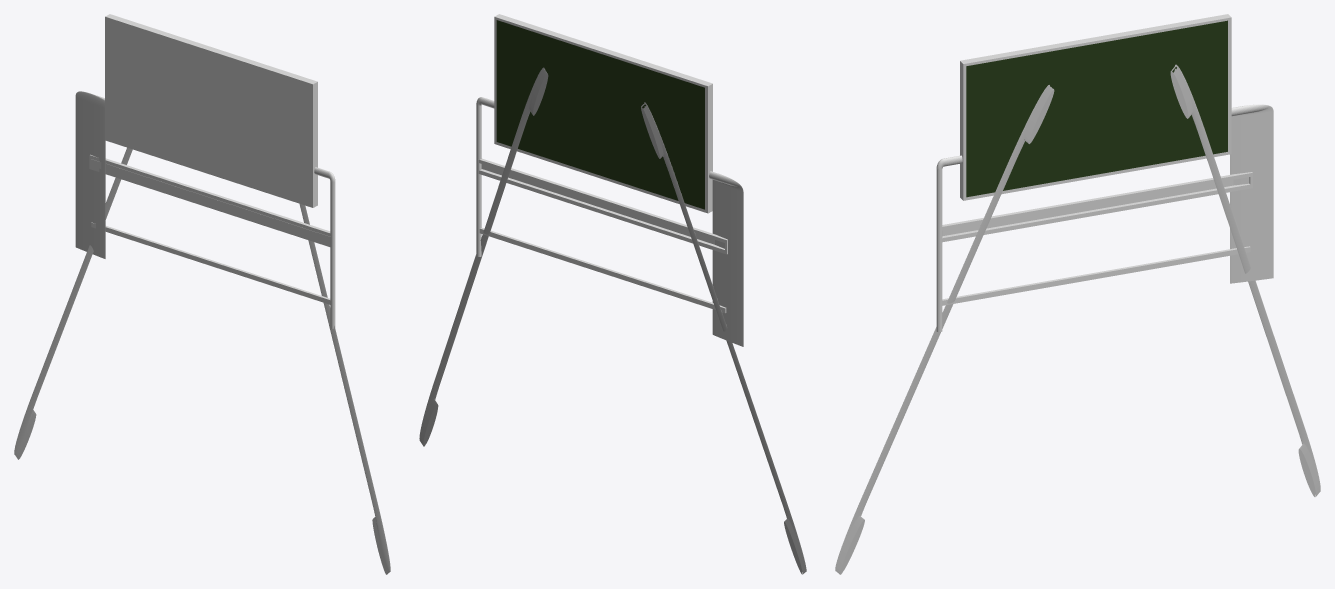
The model's file is BordHausT.glb.
The picture shows the model from 3 angles, left to right: view 1: azimuth 30°, elevation 25°; view 2: azimuth 210°, elevation 25°; view 3: azimuth 270°, elevation 25°; orthographic projection. The views are drawn at different scales.
Visible parts, largest first — view 1: Cube, Cylinder.001, Cube.001, Cylinder.003, Cylinder.002, Cube.002, Cylinder; view 2: Cube, Cylinder.001, Cube.001, Cylinder.002, Cylinder.003, Cube.002, Cylinder; view 3: Cube, Cylinder.001, Cube.001, Cylinder.003, Cylinder.002, Cube.002, Cylinder.
Boxes of the visible parts, box(x1,y1,x2,y2) form: Cube: box(105, 14, 317, 207); Cylinder.001: box(75, 91, 105, 258); Cube.001: box(89, 154, 330, 246); Cylinder.003: box(299, 204, 390, 574); Cylinder.002: box(14, 147, 132, 459); Cube.002: box(91, 222, 330, 304); Cylinder: box(314, 167, 335, 328); Cube: box(494, 14, 712, 213); Cylinder.001: box(709, 171, 743, 346); Cube.001: box(478, 158, 727, 254); Cylinder.002: box(641, 102, 806, 574); Cylinder.003: box(419, 67, 548, 446); Cube.002: box(479, 228, 726, 313); Cylinder: box(476, 97, 494, 256); Cube: box(960, 14, 1231, 200); Cylinder.001: box(1230, 104, 1273, 283); Cube.001: box(941, 172, 1252, 242); Cylinder.003: box(835, 85, 1054, 574); Cylinder.002: box(1170, 64, 1320, 496); Cube.002: box(942, 246, 1250, 305); Cylinder: box(936, 155, 962, 332).
Size of the model in its own units: 25.31 by 70.94 by 61.32.
